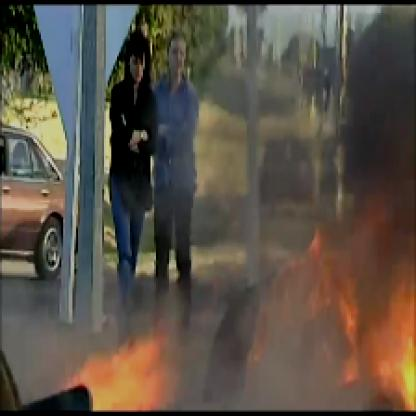Fire: (65, 217, 414, 414)
